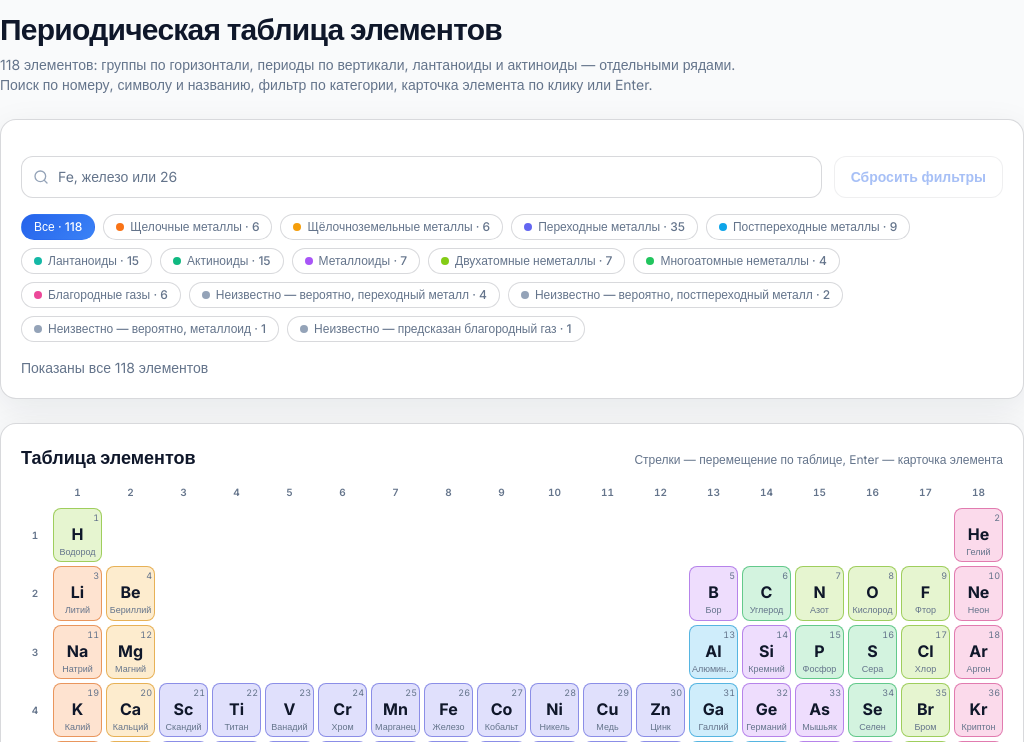
Test case: таблица рендерит 118 кнопок-элементов, ищет и открывает карточку
Expected: the button with aria-label "Железо, Fe, атомный номер 26" is shown, [424,683,473,737]
In the search field named "Поиск элемента": (421,177) [21,156,822,198], type "железо"
(page scrolled)
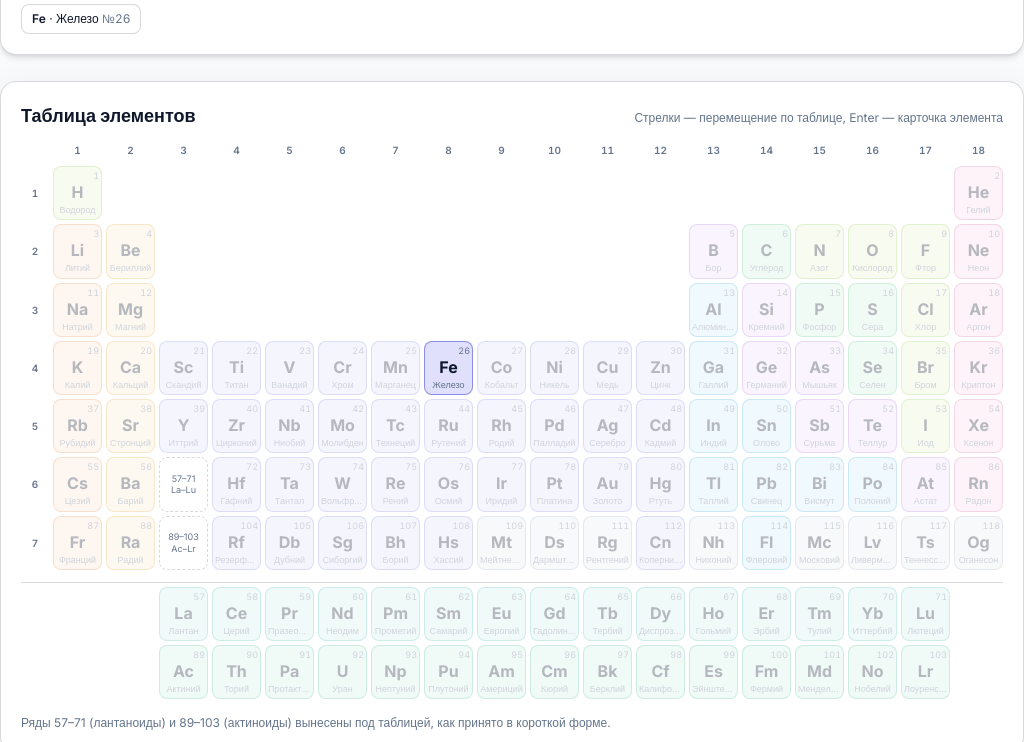
Click the button with aria-label "Железо, Fe, атомный номер 26": (448,368) [424,341,473,395]
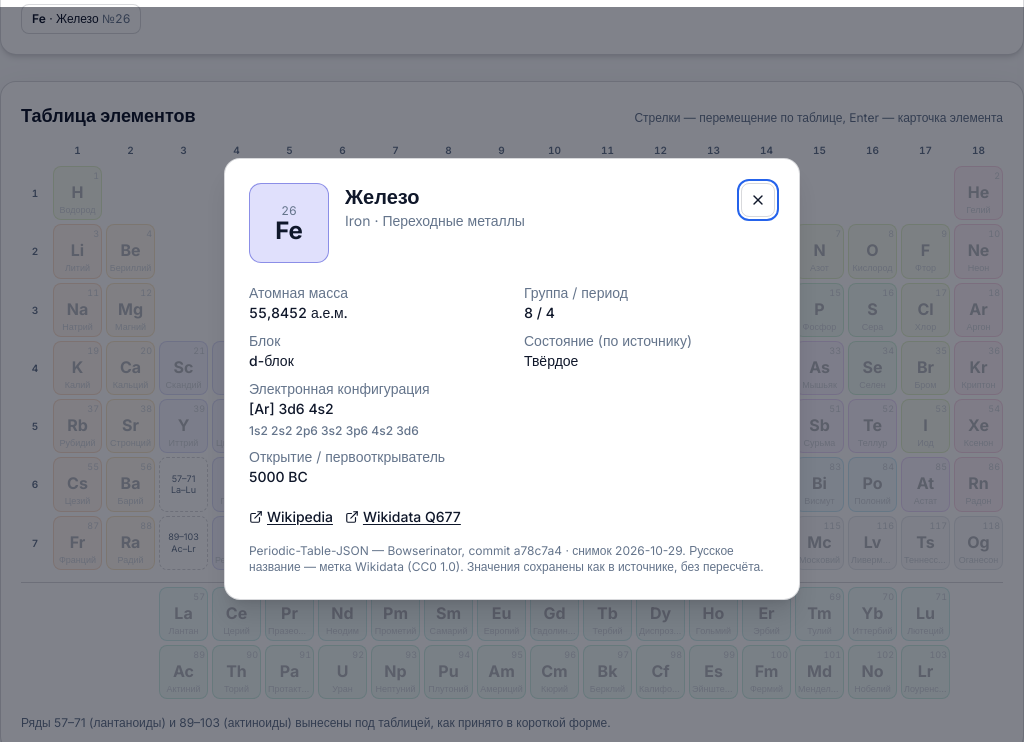
Now the dialog is shown
Now the heading "Железо" is shown, box [345,185,419,209]
Now the text "55,8452 а.е.м." is shown, box [249,304,347,321]
Press Escape in the dialog, box [224,158,800,600]
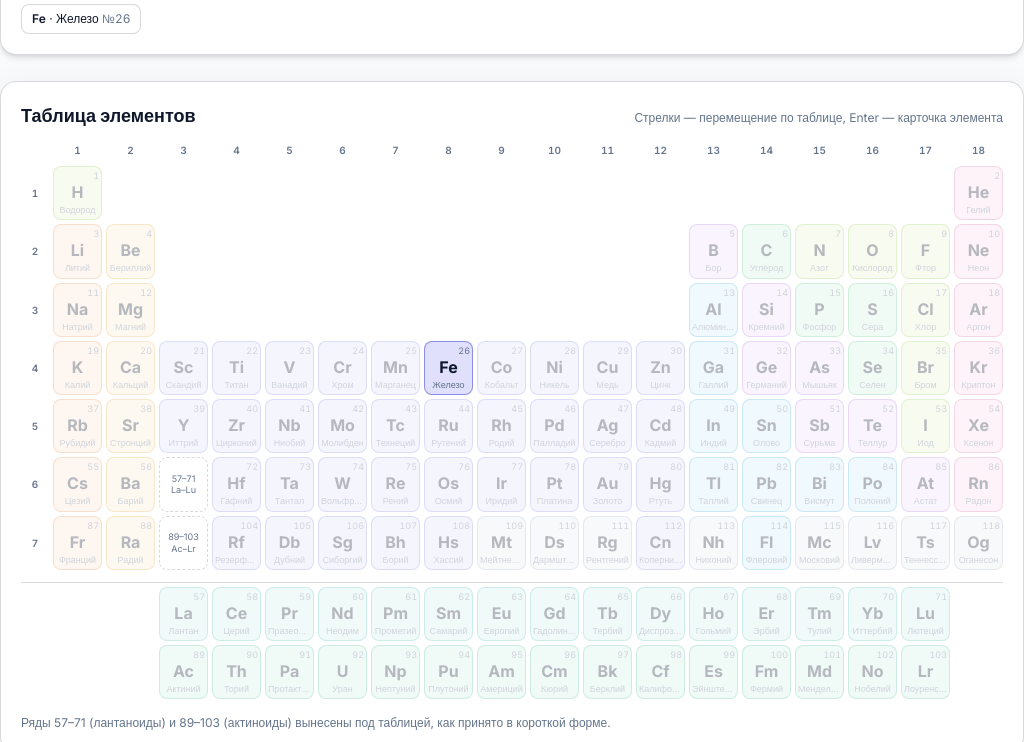
Now the dialog is gone
